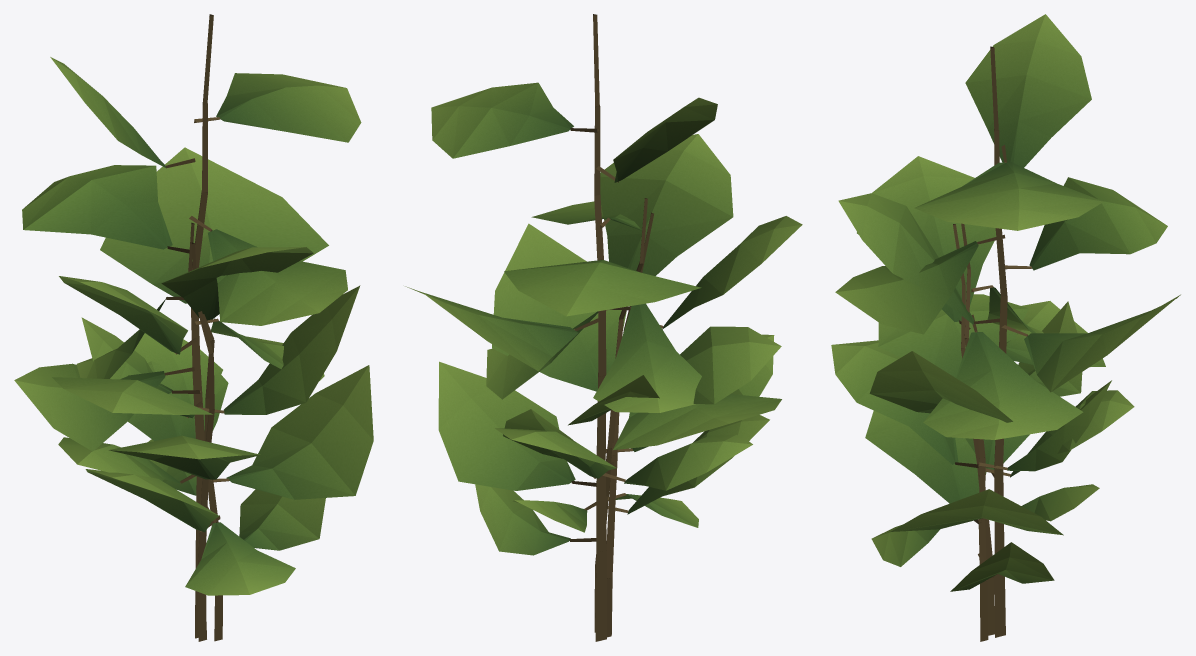
File: forest_shrub_001_f_LOD1.gltf
3 views of the same model, side by side, from view 1: azimuth 30°, elevation 25°; view 2: azimuth 150°, elevation 25°; view 3: azimuth 270°, elevation 25° (orthographic). The views are drawn at different scales.
Visible parts, largest first — view 1: forest_shrub_001_f_LOD1; view 2: forest_shrub_001_f_LOD1; view 3: forest_shrub_001_f_LOD1.
Boxes of the visible parts, box(x1,y1,x2,y2) form: forest_shrub_001_f_LOD1: box(14, 14, 373, 641); forest_shrub_001_f_LOD1: box(405, 14, 802, 641); forest_shrub_001_f_LOD1: box(831, 14, 1180, 641).
Bounding box in the file's own units: 0.4806 × 0.8719 × 0.4677.
1 material, 1 textured.
